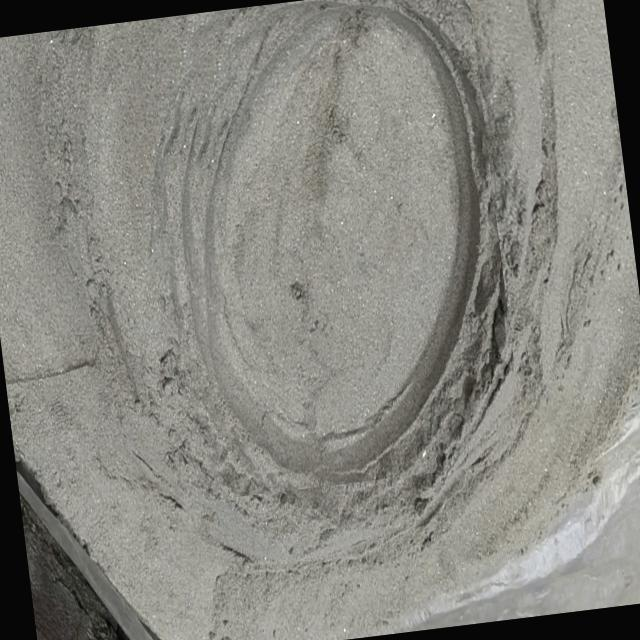C40: (198, 0, 499, 485)
